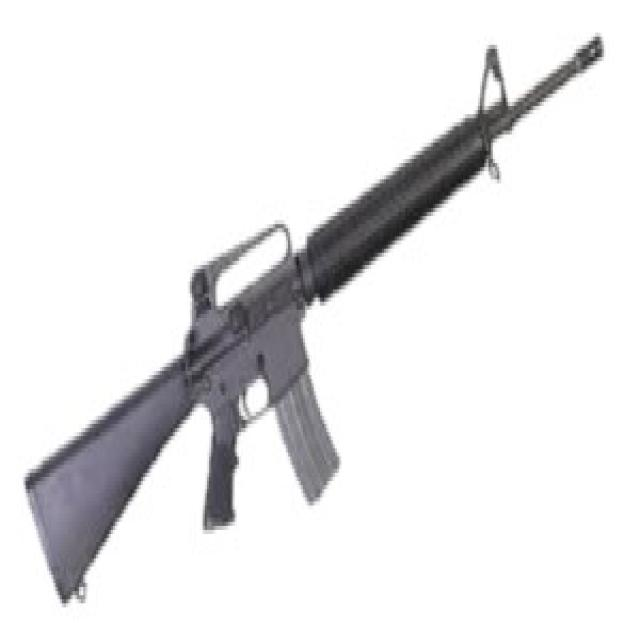rifle: (21, 23, 611, 620)
